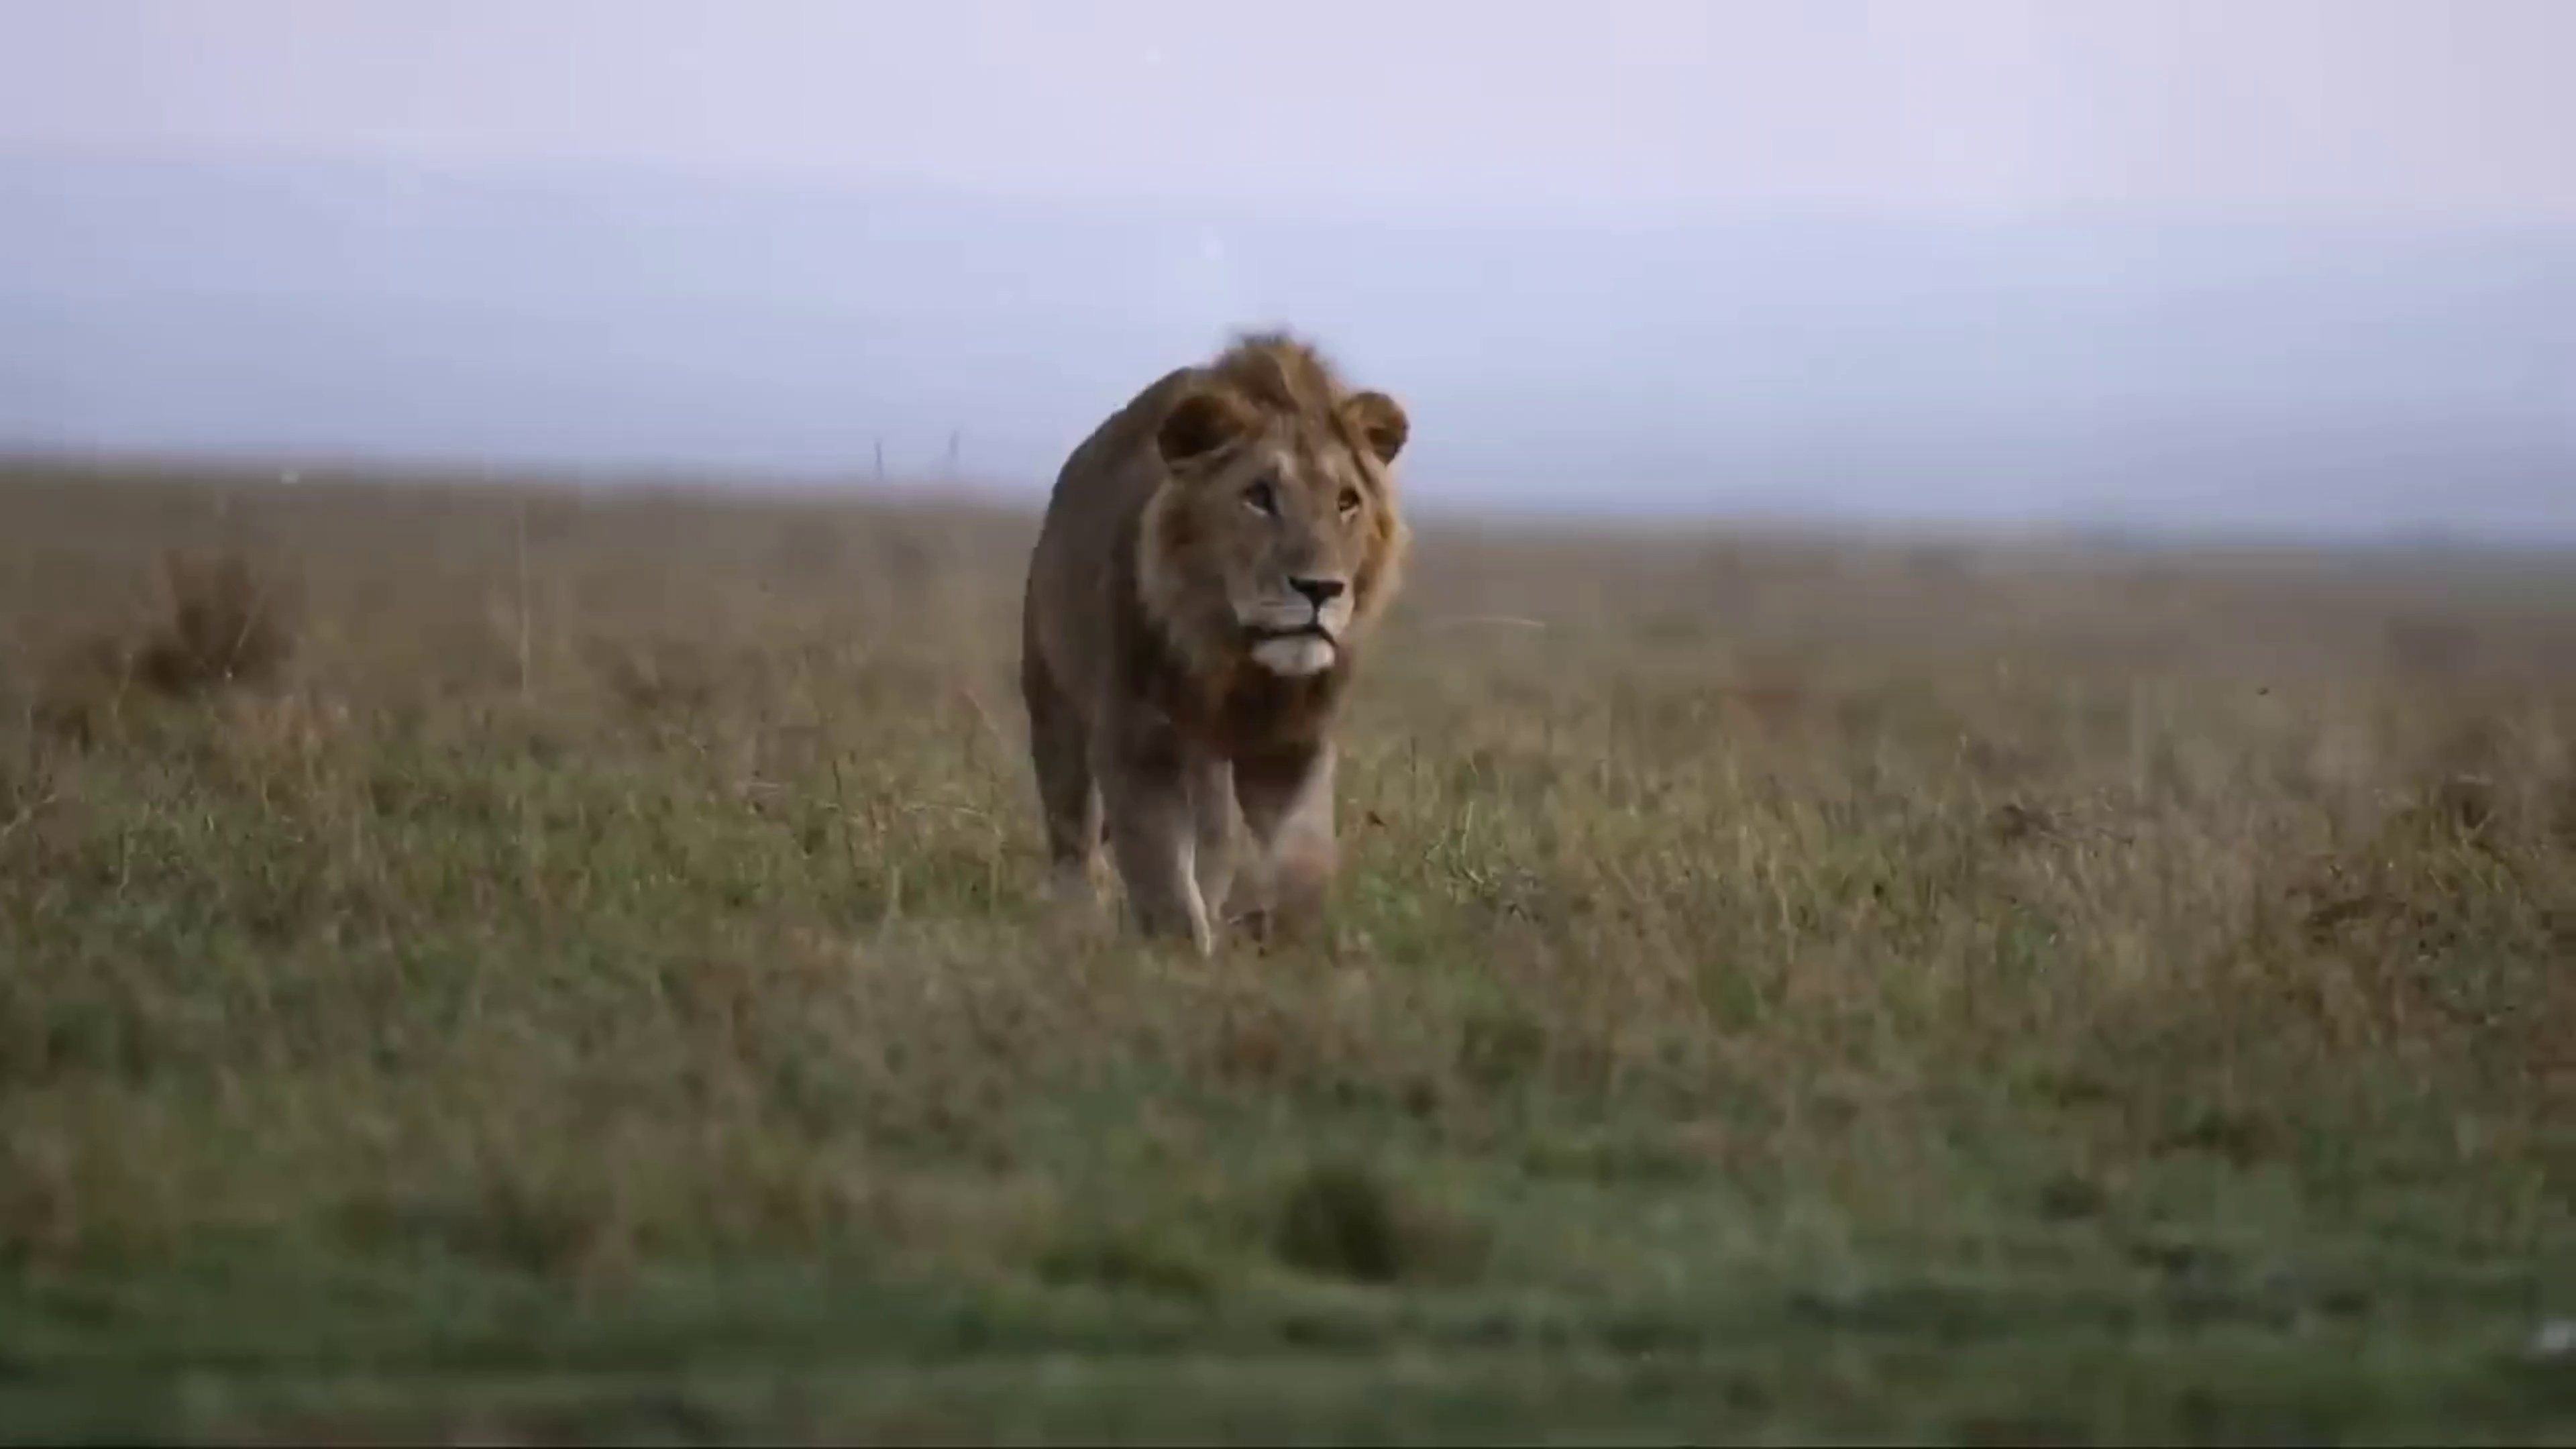Lion: (1023, 322, 1414, 968)
